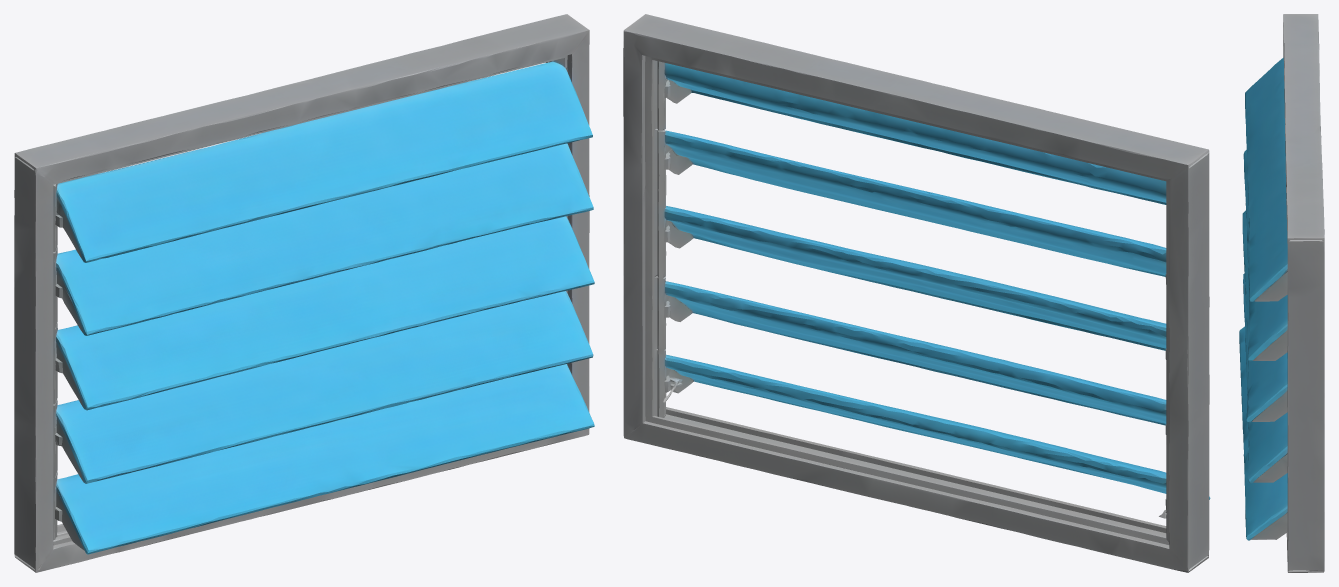
Rendered from window-v2.glb.
The picture shows the model from 3 angles, left to right: view 1: azimuth 30°, elevation 25°; view 2: azimuth 150°, elevation 25°; view 3: azimuth 270°, elevation 25°; orthographic projection. The views are drawn at different scales.
Parts seen in each view (by area): view 1: model; view 2: model; view 3: model.
Boxes of the visible parts, x1=… form: model: x1=14, y1=14, x2=594, y2=572; model: x1=623, y1=14, x2=1210, y2=572; model: x1=1239, y1=14, x2=1324, y2=572.
Bounding box in the file's own units: 1.89 × 1.32 × 0.3041.
Materials: 1 (1 with a texture image).
